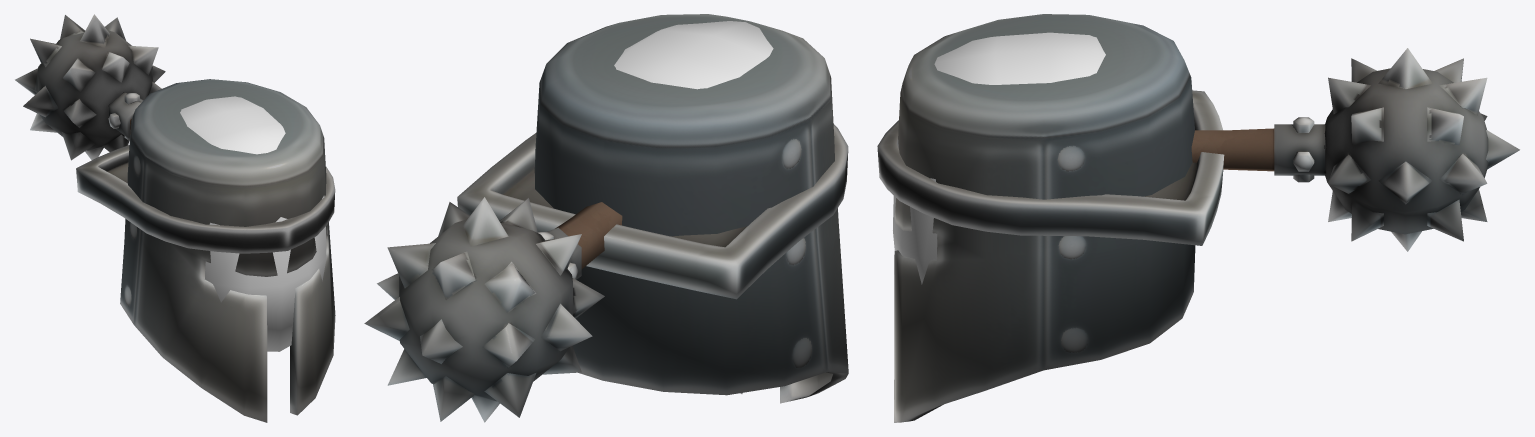
File: paladin2_props.fbx
3 views of the same model, side by side, from view 1: azimuth 30°, elevation 25°; view 2: azimuth 150°, elevation 25°; view 3: azimuth 270°, elevation 25° (orthographic). The views are drawn at different scales.
Parts seen in each view (by area): view 1: helmet1_low.001, mace_low.001, healmetHead, shield_low.001; view 2: helmet1_low.001, mace_low.001, shield_low.001, healmetHead; view 3: helmet1_low.001, mace_low.001, shield_low.001, healmetHead.
Part boxes in pixels (x1=…): helmet1_low.001: x1=120, y1=79, x2=335, y2=422; mace_low.001: x1=15, y1=14, x2=165, y2=160; healmetHead: x1=180, y1=96, x2=326, y2=351; shield_low.001: x1=76, y1=145, x2=335, y2=253; helmet1_low.001: x1=534, y1=14, x2=848, y2=403; mace_low.001: x1=364, y1=197, x2=622, y2=422; shield_low.001: x1=457, y1=124, x2=848, y2=299; healmetHead: x1=614, y1=21, x2=773, y2=89; helmet1_low.001: x1=894, y1=14, x2=1195, y2=422; mace_low.001: x1=1191, y1=48, x2=1519, y2=251; shield_low.001: x1=877, y1=90, x2=1224, y2=245; healmetHead: x1=893, y1=32, x2=1105, y2=284.
Size of the model in its own units: 105 by 144 by 229.
